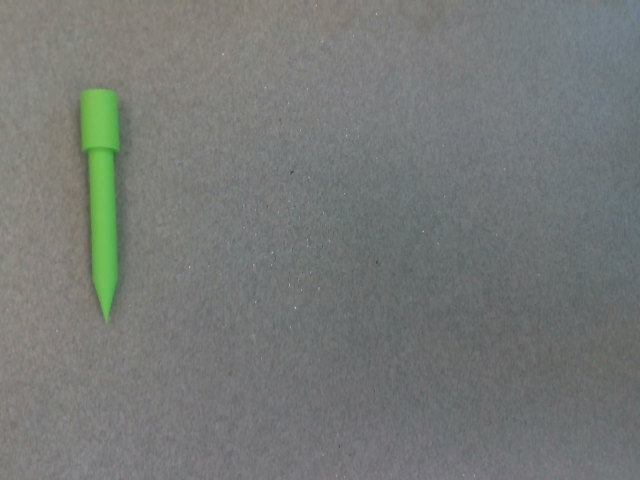Probe: (73, 83, 129, 332)
